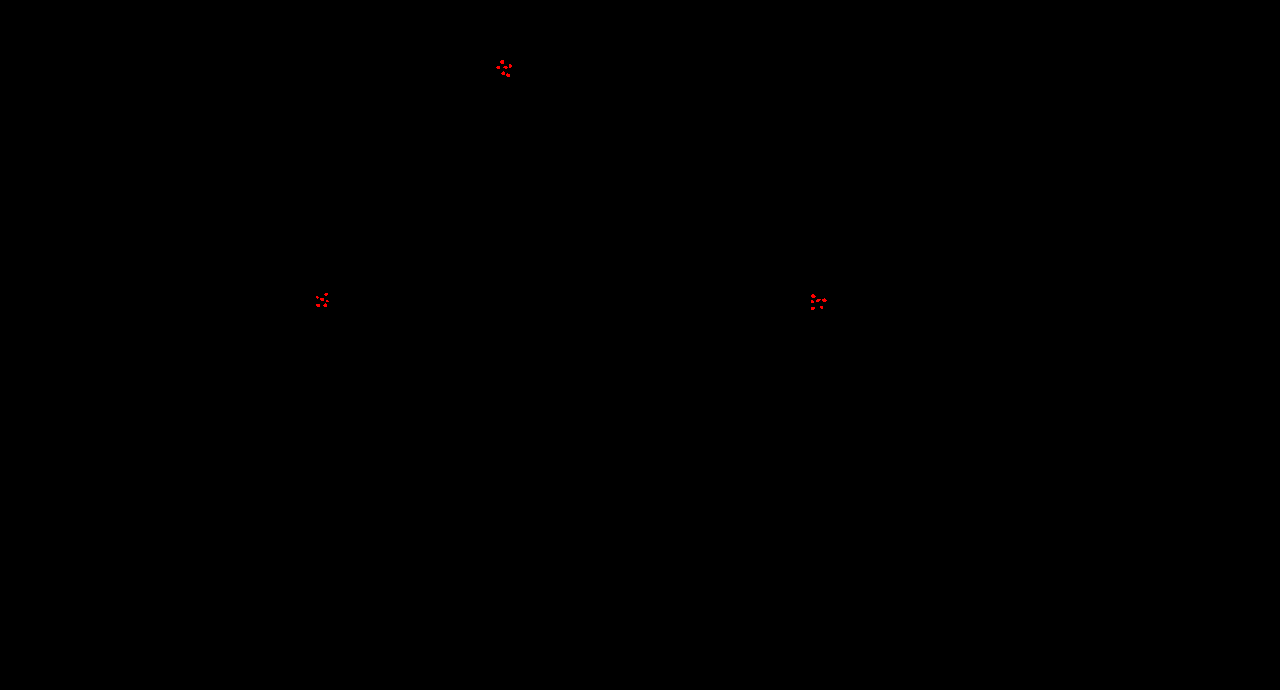Target: (811, 294, 816, 298), (822, 298, 827, 302), (500, 60, 504, 64), (501, 71, 505, 75), (506, 73, 510, 77), (323, 303, 327, 307), (503, 66, 508, 69), (816, 299, 821, 302), (509, 64, 512, 68), (496, 66, 500, 69), (324, 293, 328, 296), (320, 298, 324, 301), (316, 304, 320, 307), (811, 307, 815, 310), (316, 296, 319, 299), (811, 300, 814, 303), (820, 306, 823, 309), (326, 300, 329, 302)
